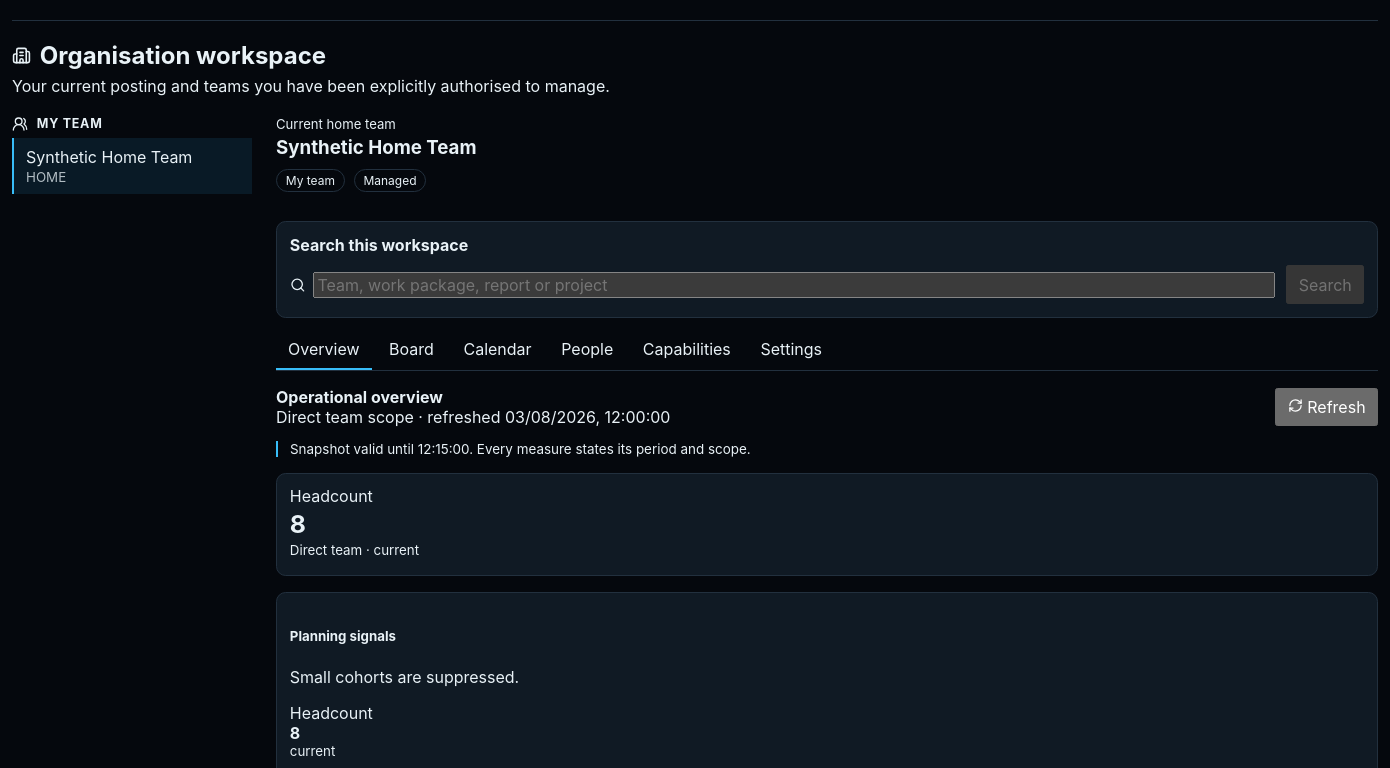
Test: each authorised tab renders its own panel for the selected workspace
Check: the heading "Operational overview" is shown, box x1=276 y1=387 x2=443 y2=407
Click the tab "Board" at [412, 350], box x1=377 y1=330 x2=446 y2=370
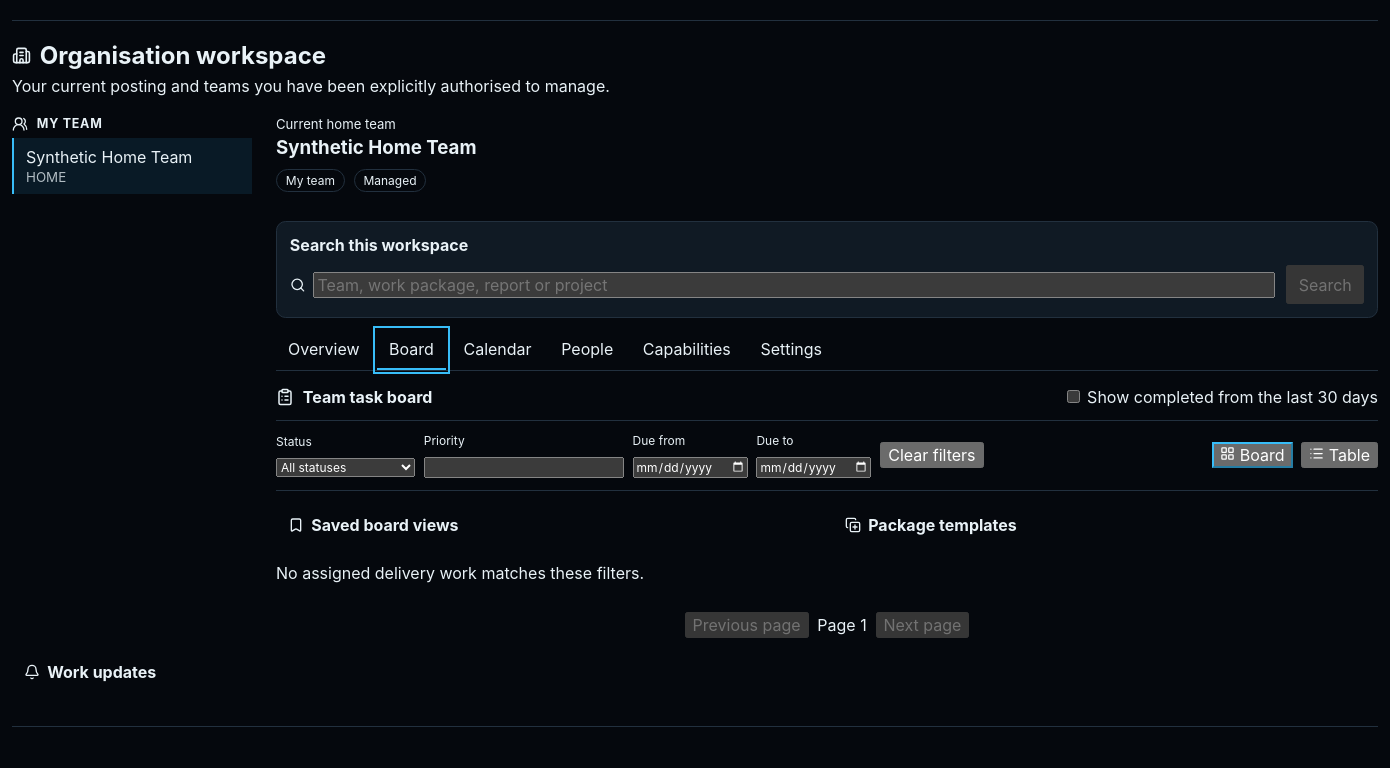
Check: the heading "Team task board" is shown, box x1=303 y1=387 x2=432 y2=407
Click the tab "People" at [587, 350], box x1=549 y1=330 x2=625 y2=370
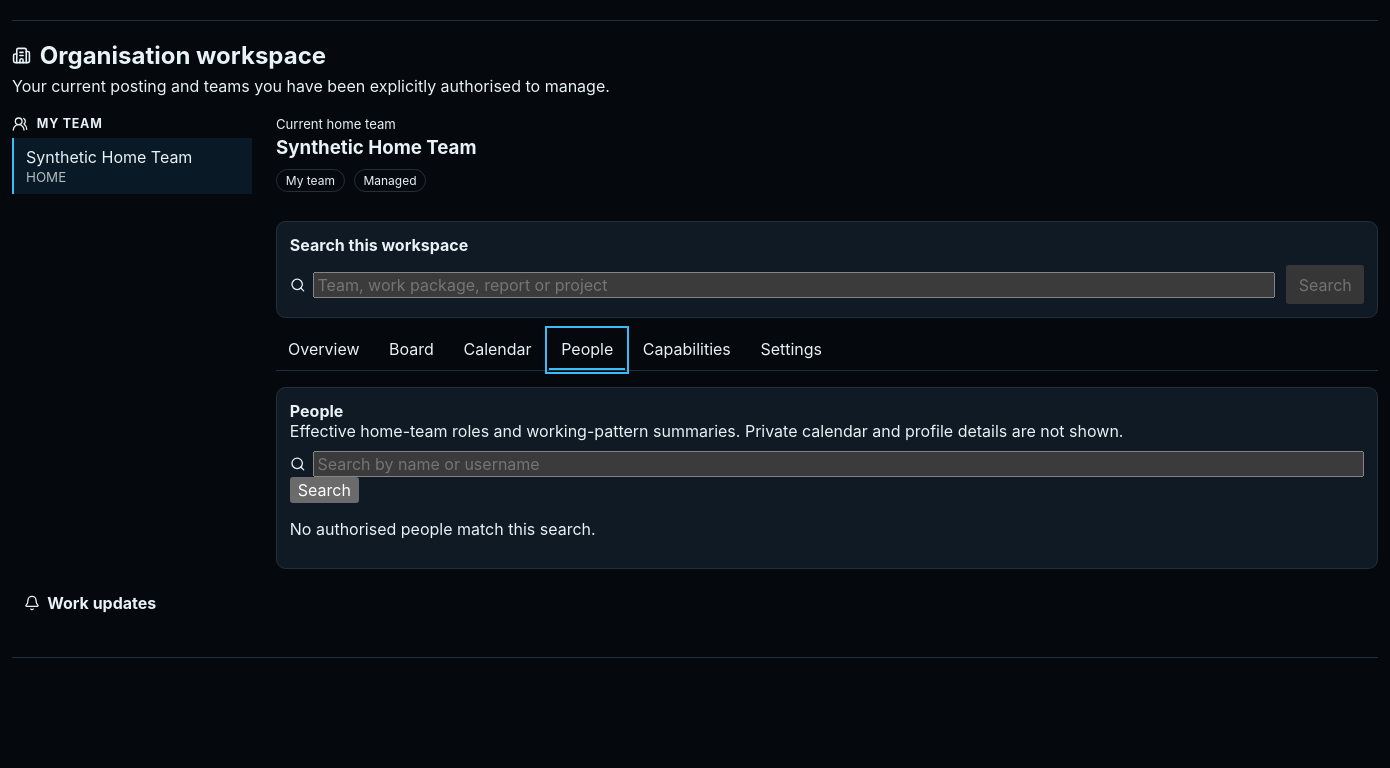
Check: the heading "People" is shown, box x1=290 y1=401 x2=343 y2=421
Click the tab "Capabilities" at [687, 350], box x1=631 y1=330 x2=743 y2=370
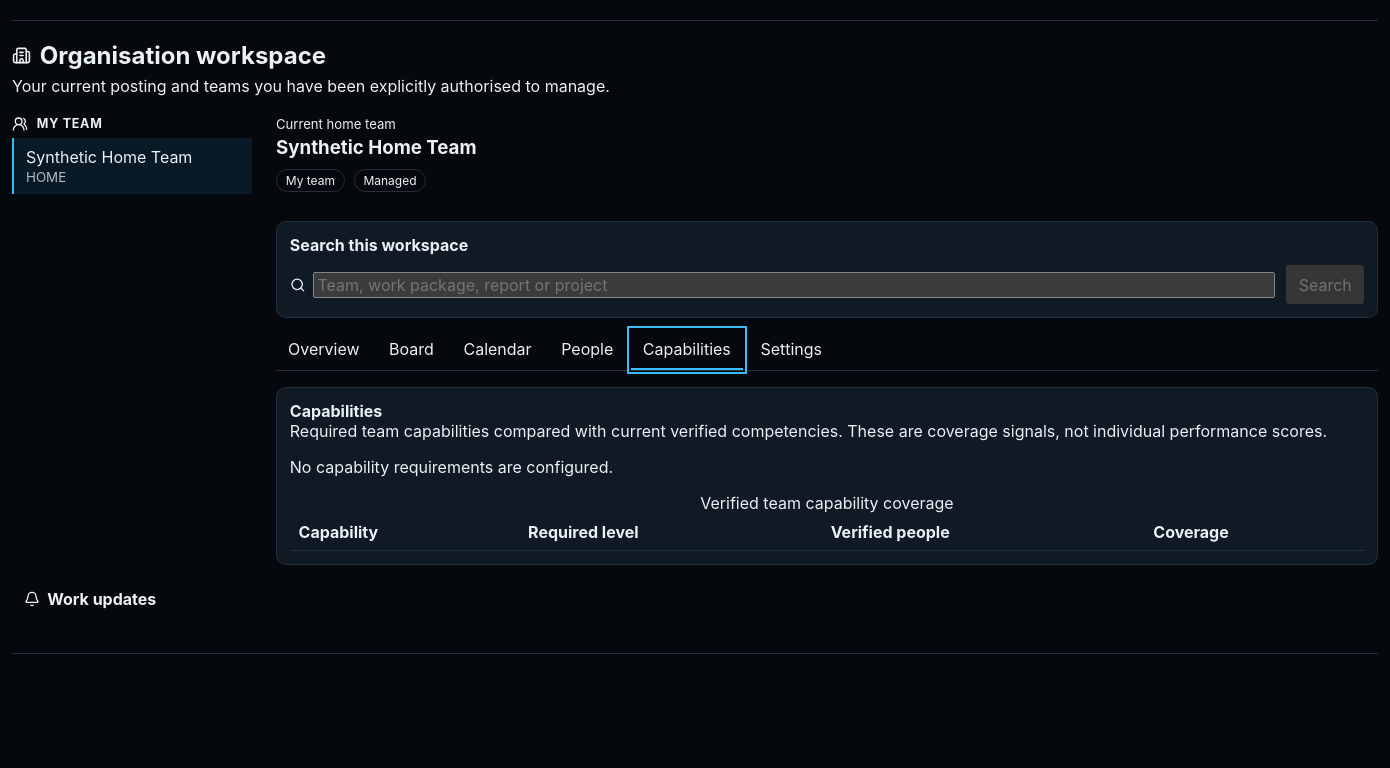
Check: the heading "Capabilities" is shown, box x1=290 y1=401 x2=382 y2=421
Click the tab "Settings" at [791, 350], box x1=748 y1=330 x2=834 y2=370
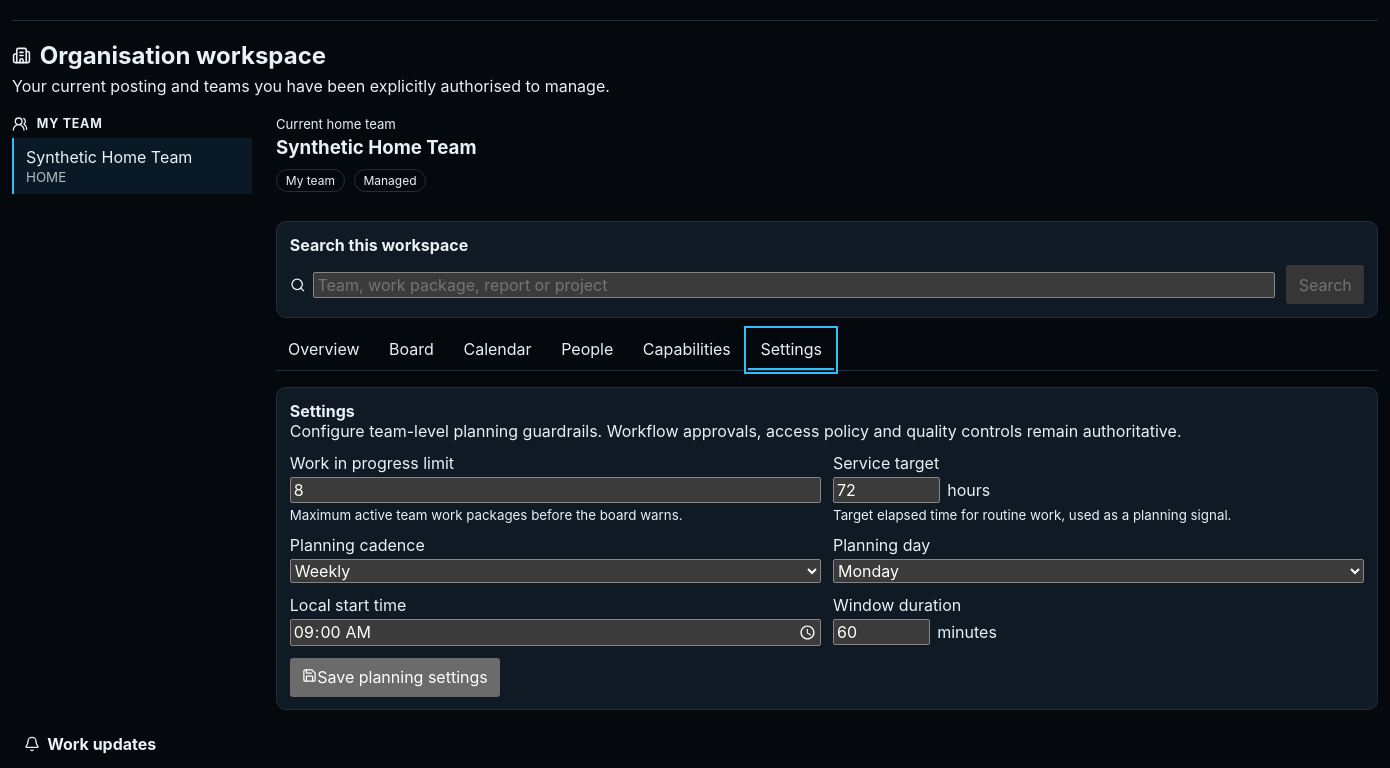
Check: the heading "Settings" is shown, box x1=290 y1=401 x2=355 y2=421
